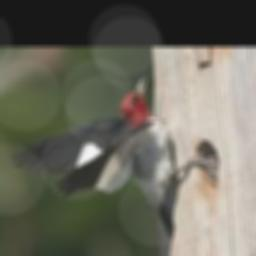Woodpecker: (13, 77, 217, 239)
